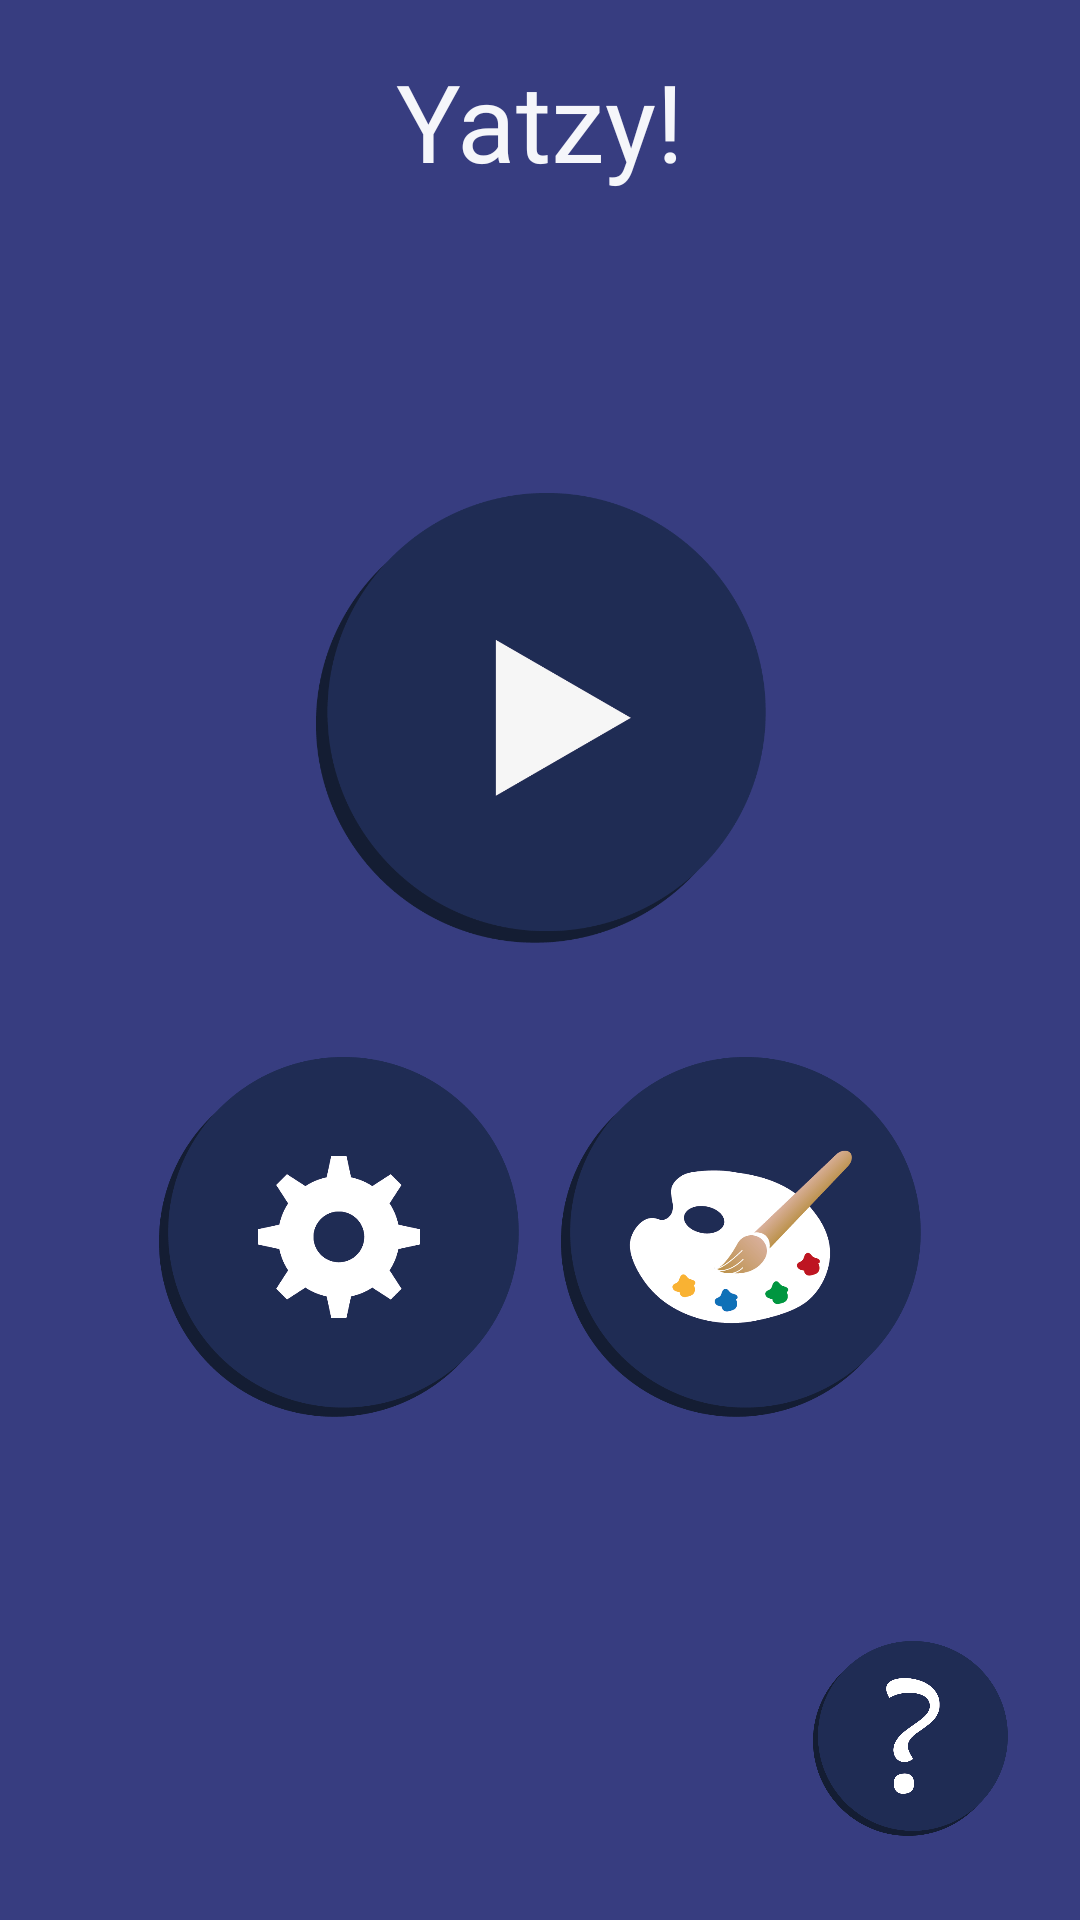

Where to tap for icons on this 1080 x 1920 app screen, as [x,y]:
bouton edit: [741,1237]
bouton options: [339,1237]
bouton tuto: [910,1738]
